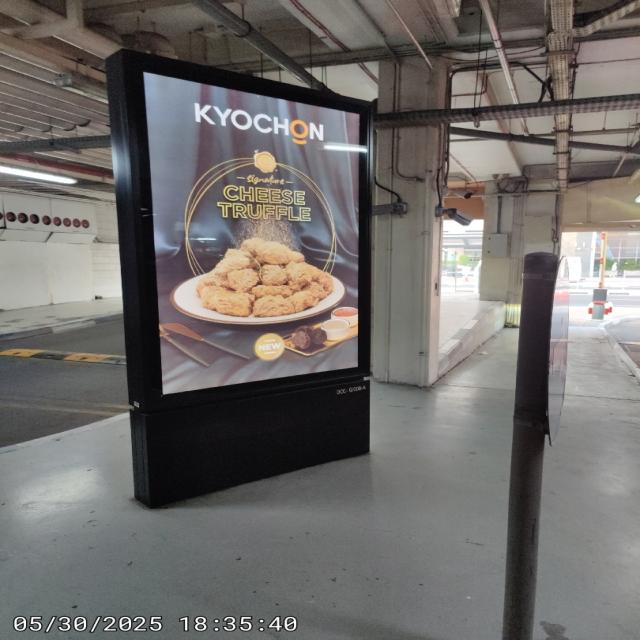mupi: (128, 54, 377, 511)
